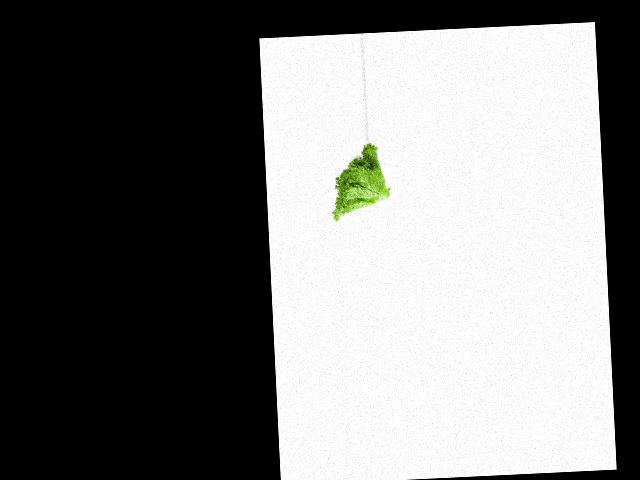lettuce: (327, 141, 390, 222)
